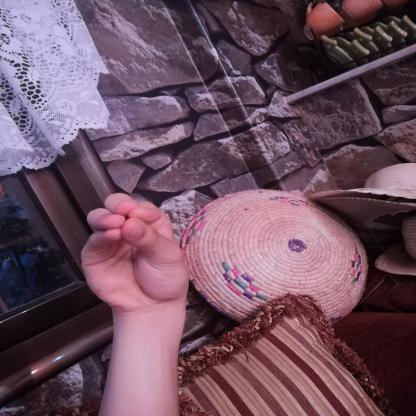HA: (57, 178, 218, 328)
